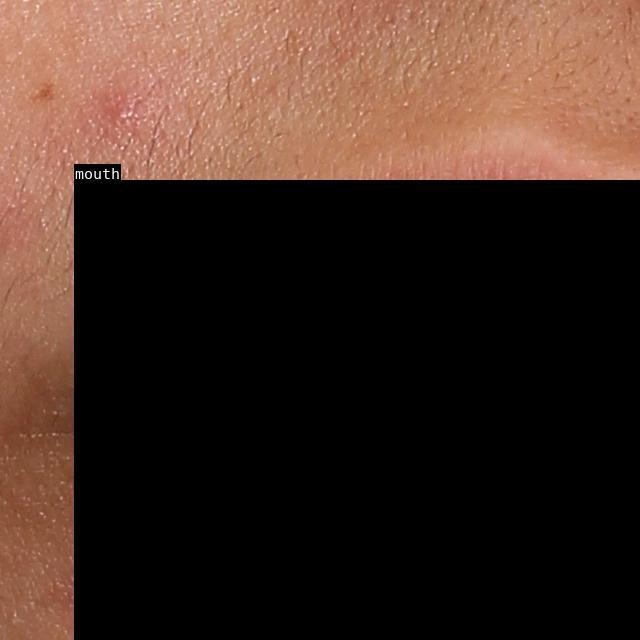nevus: (26, 80, 58, 103)
